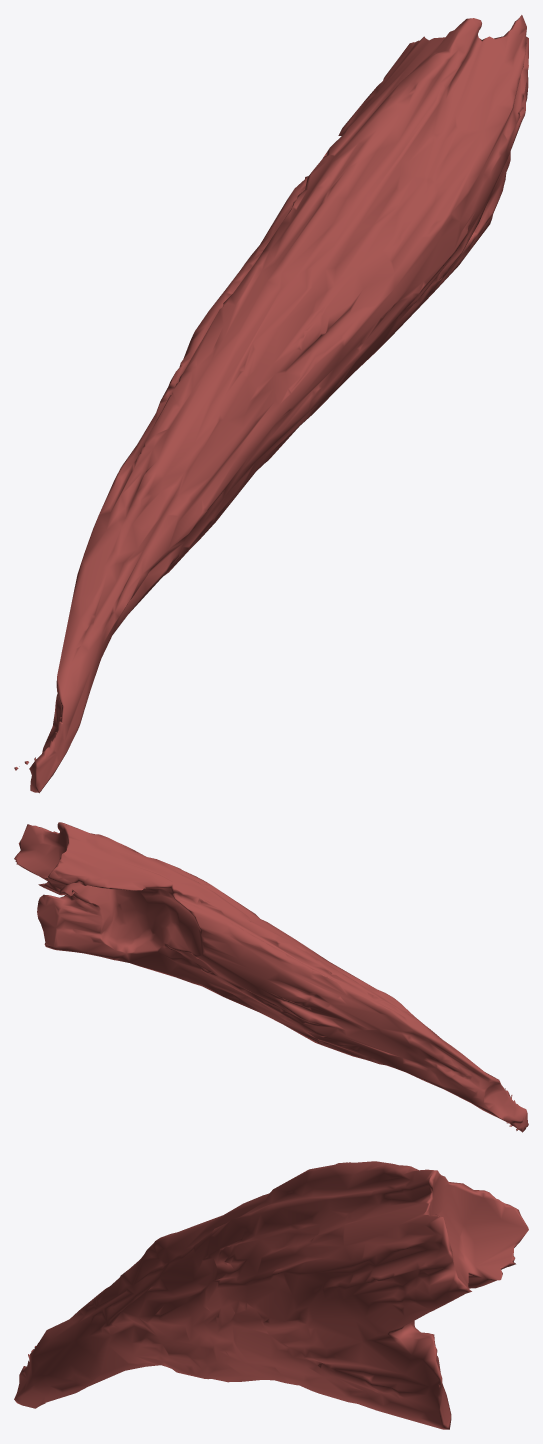
File: FMA46121.glb
The picture shows the model from 3 angles, top to bottom: view 1: azimuth 30°, elevation 25°; view 2: azimuth 150°, elevation 25°; view 3: azimuth 270°, elevation 25°; orthographic projection. The views are drawn at different scales.
Visible parts, largest first — view 1: FMA46121; view 2: FMA46121; view 3: FMA46121.
Part boxes in pixels (x1,y1,x2,y2): FMA46121: [14, 15, 528, 793]; FMA46121: [14, 822, 528, 1132]; FMA46121: [14, 1161, 528, 1429].
Bounding box in the file's own units: 0.0429 × 0.03 × 0.024.
